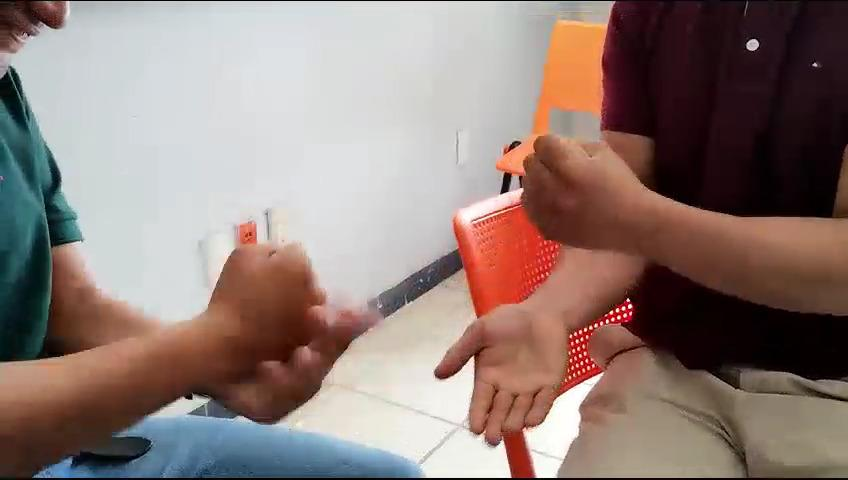Stone: (482, 77, 680, 310), (155, 198, 360, 394)
